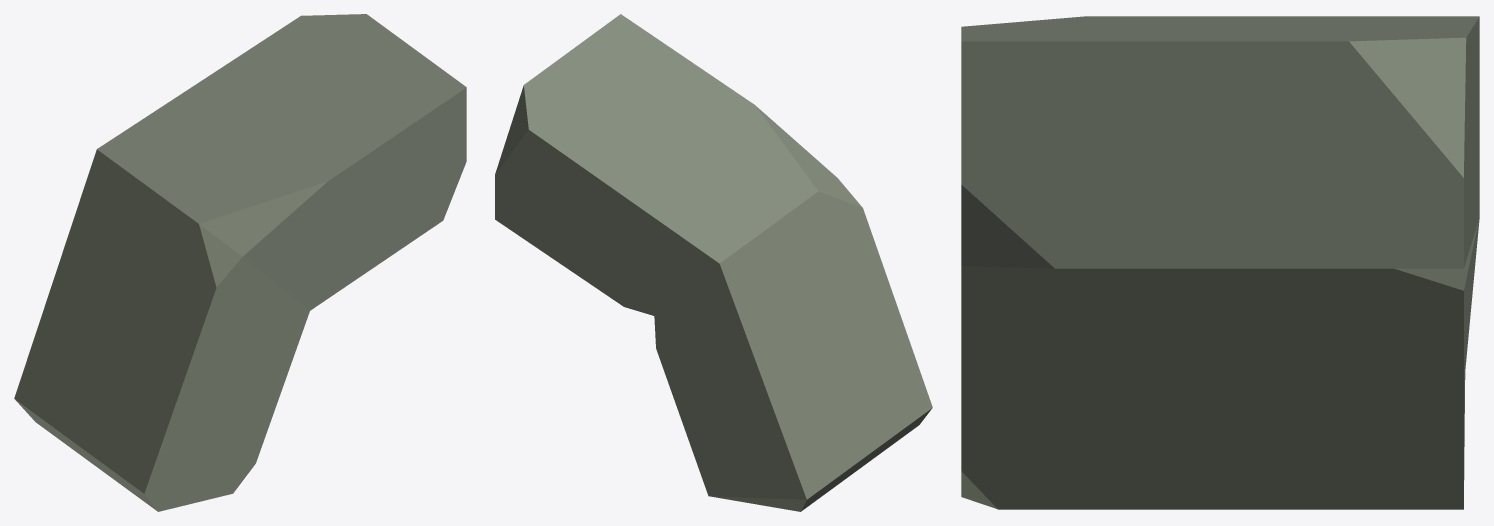
File: arch_tiny_left.fbx
3 views of the same model, side by side, from view 1: azimuth 30°, elevation 25°; view 2: azimuth 150°, elevation 25°; view 3: azimuth 270°, elevation 25° (orthographic). The views are drawn at different scales.
Visible parts, largest first — view 1: arch_tiny_left; view 2: arch_tiny_left; view 3: arch_tiny_left.
Part boxes in pixels (box(x1,y1,x2,y2)): arch_tiny_left: box(14, 14, 466, 511); arch_tiny_left: box(495, 14, 932, 511); arch_tiny_left: box(961, 16, 1479, 509).
Size of the model in its own units: 73.14 by 75.73 by 52.61.
